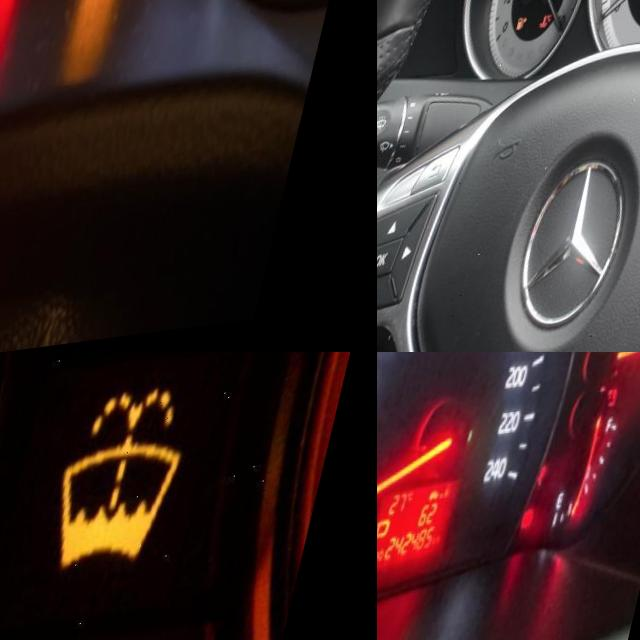Washer Fluid: (55, 398, 212, 589)
